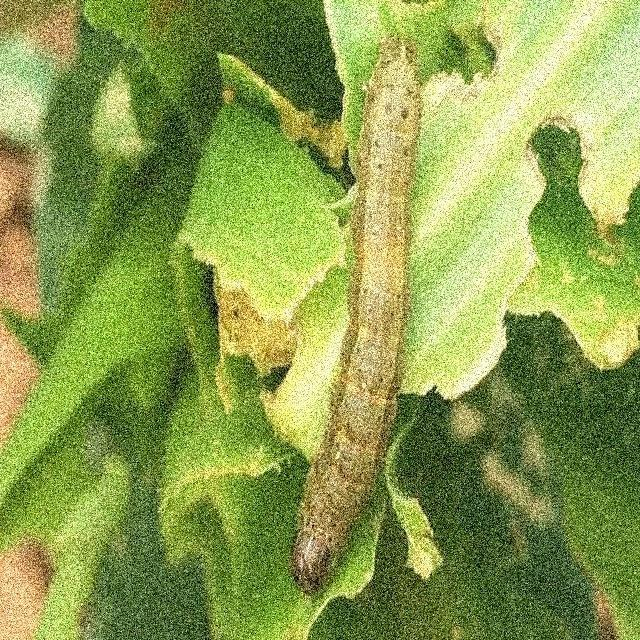gusano_cogollero: (289, 34, 427, 600)
